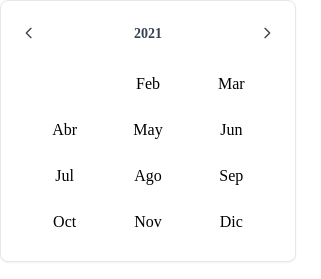
Test: <DatePicker /> › should be render with prop onlyOf=month-year
Expected: the button "Feb" is shown, [120,65,176,103]
Click the button "2021". click: click(148, 33)
box: [134,21,162,45]
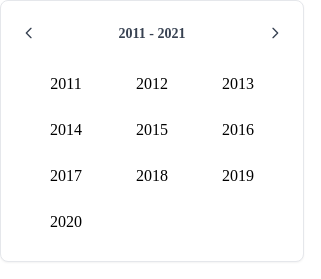
Click the button "2011 - 2021". click: click(152, 33)
box: [118,21,185,45]
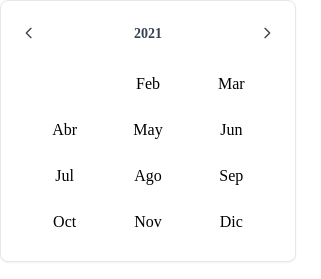
Now the button "Mar" is shown, box [204,65,259,103]
